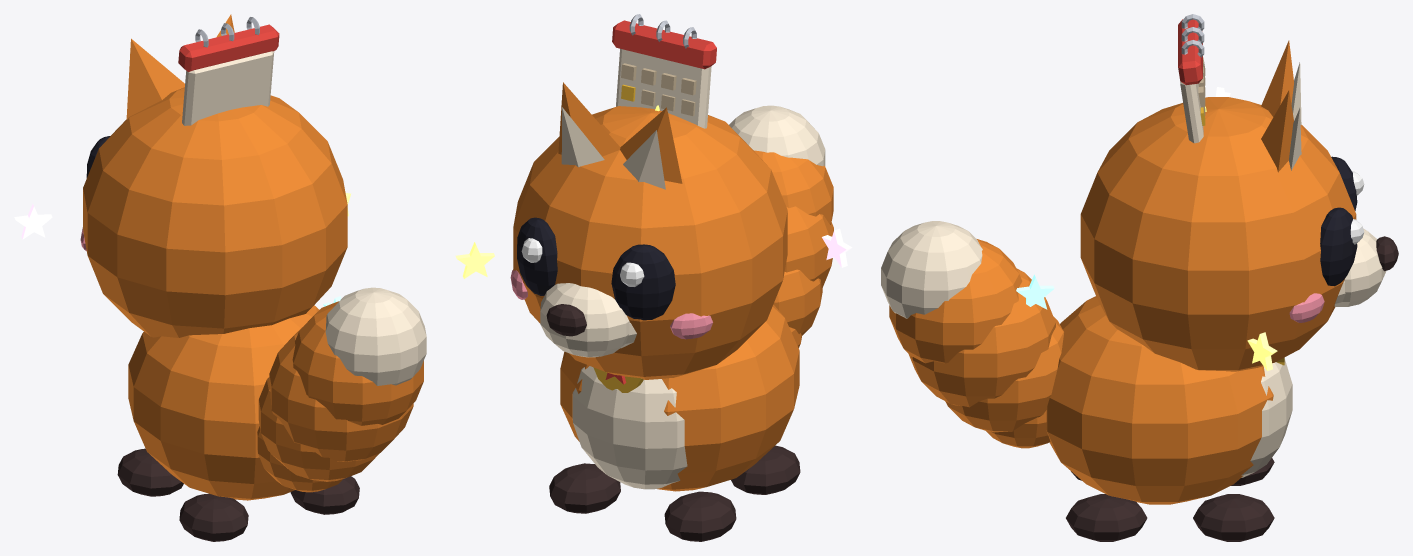
The model's file is CalendarFox.fbx.
The picture shows the model from 3 angles, left to right: view 1: azimuth 30°, elevation 25°; view 2: azimuth 150°, elevation 25°; view 3: azimuth 270°, elevation 25°; orthographic projection. The views are drawn at different scales.
Parts seen in each view (by area): view 1: Pet_F28A2E, Pet_FFF1DA, Pet_3A2A2A, Pet_E8453C, Pet_FF7AA8_Neon; view 2: Pet_F28A2E, Pet_FFF1DA, Pet_3A2A2A, Pet_1E1E2A, Pet_E8453C, Pet_D9C4A3, Pet_FF9AAE, Pet_FFFFFF, Pet_FFC83A_Metal, Pet_FFD24A_Neon, Pet_FF7AA8_Neon, Pet_C8CCD6_Metal; view 3: Pet_F28A2E, Pet_FFF1DA, Pet_3A2A2A, Pet_1E1E2A, Pet_E8453C, Pet_FF9AAE, Pet_C8CCD6_Metal, Pet_5CD6FF_Neon, Pet_FFD24A_Neon.
Part boxes in pixels (left/top/right/bottom): Pet_F28A2E: left=83, top=14, right=423, bottom=500; Pet_FFF1DA: left=130, top=51, right=426, bottom=385; Pet_3A2A2A: left=117, top=448, right=359, bottom=541; Pet_E8453C: left=178, top=24, right=279, bottom=71; Pet_FF7AA8_Neon: left=14, top=203, right=52, bottom=239; Pet_F28A2E: left=513, top=82, right=833, bottom=491; Pet_FFF1DA: left=540, top=48, right=825, bottom=489; Pet_3A2A2A: left=546, top=304, right=800, bottom=541; Pet_1E1E2A: left=517, top=217, right=675, bottom=320; Pet_E8453C: left=605, top=20, right=716, bottom=384; Pet_D9C4A3: left=621, top=63, right=696, bottom=115; Pet_FF9AAE: left=510, top=269, right=712, bottom=339; Pet_FFFFFF: left=521, top=238, right=644, bottom=286; Pet_FFC83A_Metal: left=593, top=84, right=643, bottom=392; Pet_FFD24A_Neon: left=455, top=242, right=494, bottom=278; Pet_FF7AA8_Neon: left=822, top=228, right=852, bottom=267; Pet_C8CCD6_Metal: left=629, top=14, right=696, bottom=48; Pet_F28A2E: left=889, top=40, right=1356, bottom=504; Pet_FFF1DA: left=881, top=62, right=1386, bottom=477; Pet_3A2A2A: left=1066, top=236, right=1398, bottom=541; Pet_1E1E2A: left=1320, top=156, right=1357, bottom=286; Pet_E8453C: left=1178, top=19, right=1202, bottom=85; Pet_FF9AAE: left=1289, top=293, right=1324, bottom=322; Pet_C8CCD6_Metal: left=1181, top=14, right=1204, bottom=57; Pet_5CD6FF_Neon: left=1016, top=274, right=1054, bottom=309; Pet_FFD24A_Neon: left=1247, top=332, right=1277, bottom=371.
Size of the model in its own units: 1.68 by 2.09 by 2.04.
